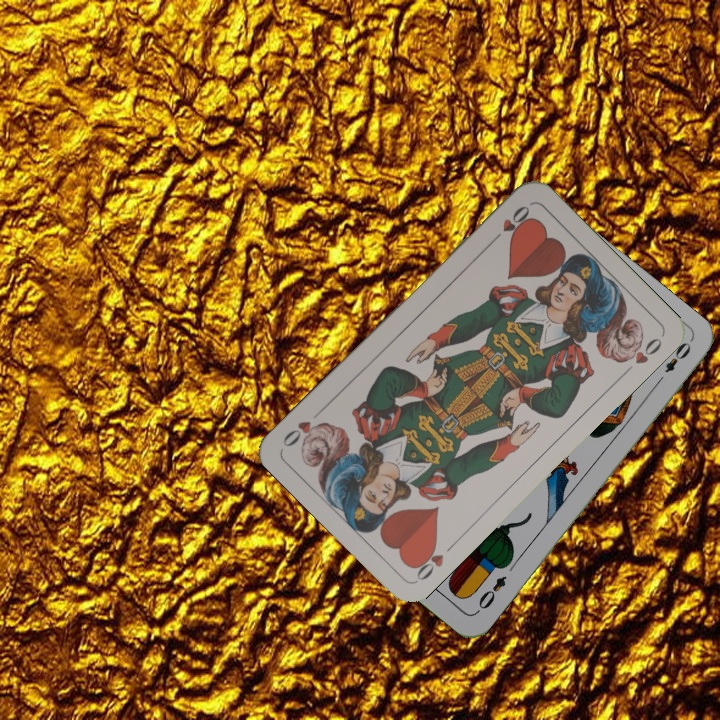EO: (472, 571, 509, 616)
HO: (407, 538, 459, 584), (486, 201, 533, 247)
